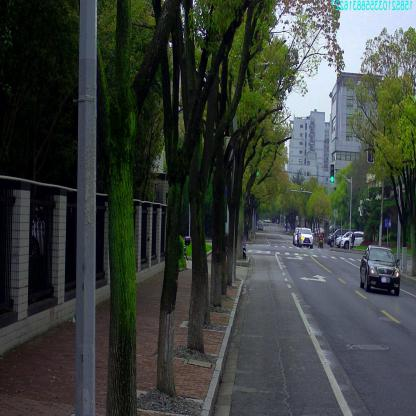traffic-light: (256, 157, 260, 177), (330, 164, 334, 183)
